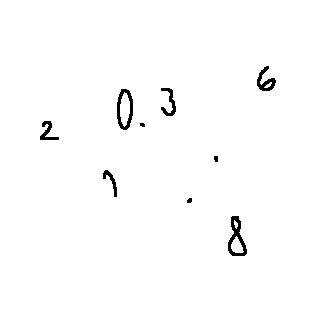.: (205, 149, 227, 165), (182, 195, 209, 207), (140, 118, 149, 139)
0: (116, 85, 135, 134)
1: (94, 163, 130, 208)
2: (28, 110, 63, 150)
3: (153, 82, 186, 123)
6: (251, 60, 280, 98)
8: (219, 206, 258, 271)
